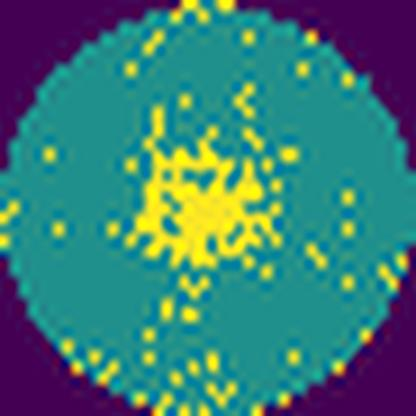Center: (127, 104, 282, 270)
